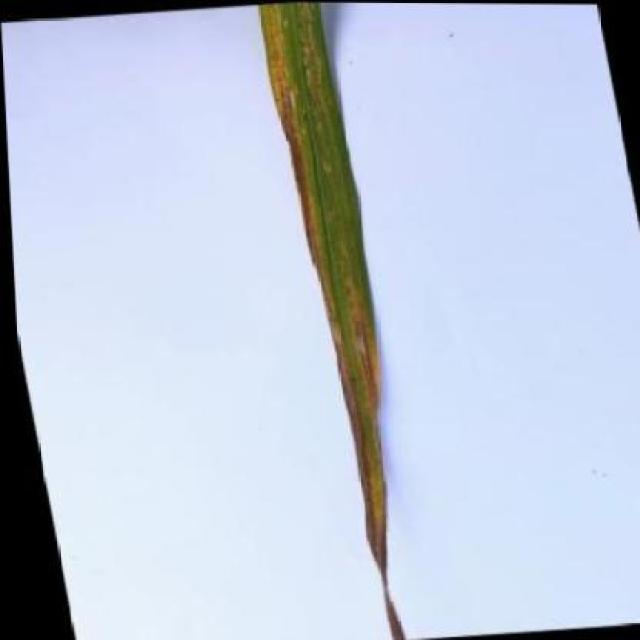Rice False Smut: (259, 2, 398, 640)
